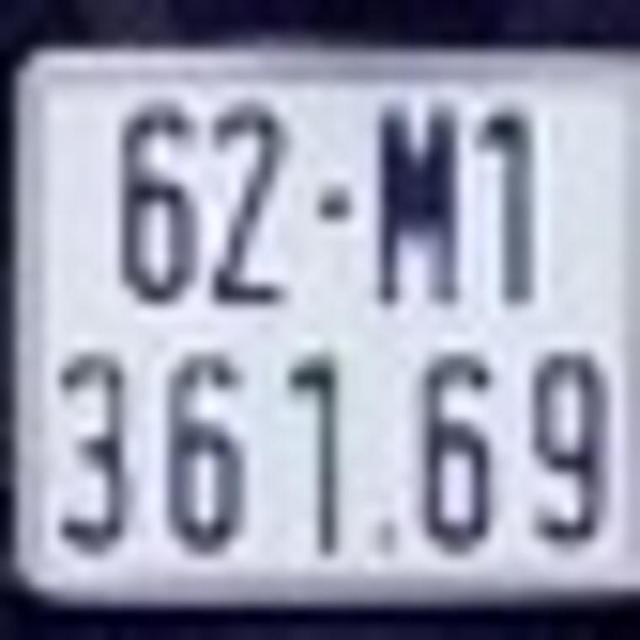1: (476, 110, 544, 304), (293, 343, 346, 564)
2: (206, 90, 301, 312)
3: (53, 348, 136, 568)
6: (162, 353, 248, 561), (119, 95, 198, 308), (423, 347, 492, 559)
9: (528, 350, 610, 548)
M: (368, 93, 468, 310)
